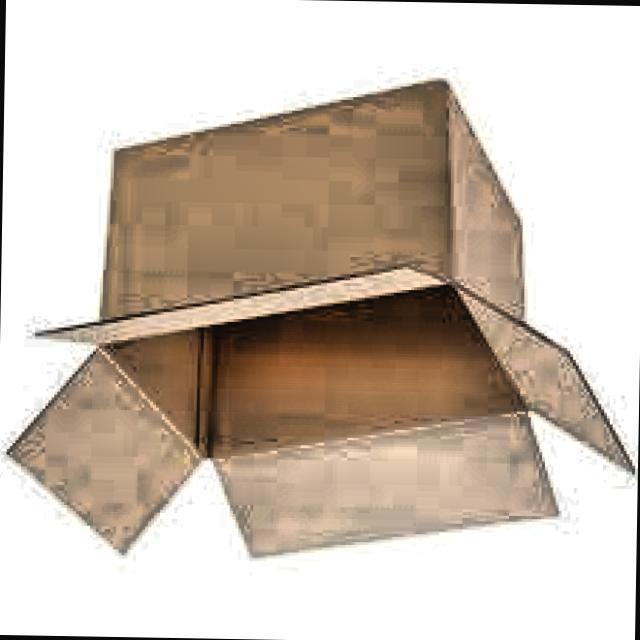cardboard: (5, 73, 640, 573)
